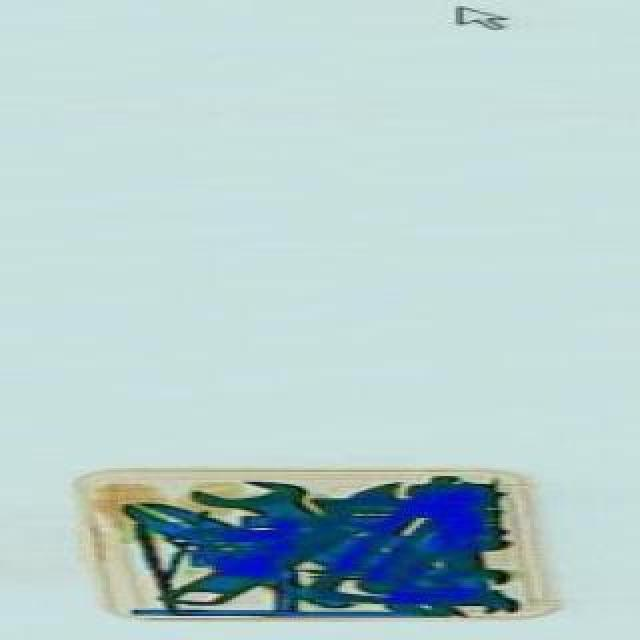scissors: (184, 446, 444, 616), (144, 472, 418, 624)
wrench: (106, 484, 356, 608)
